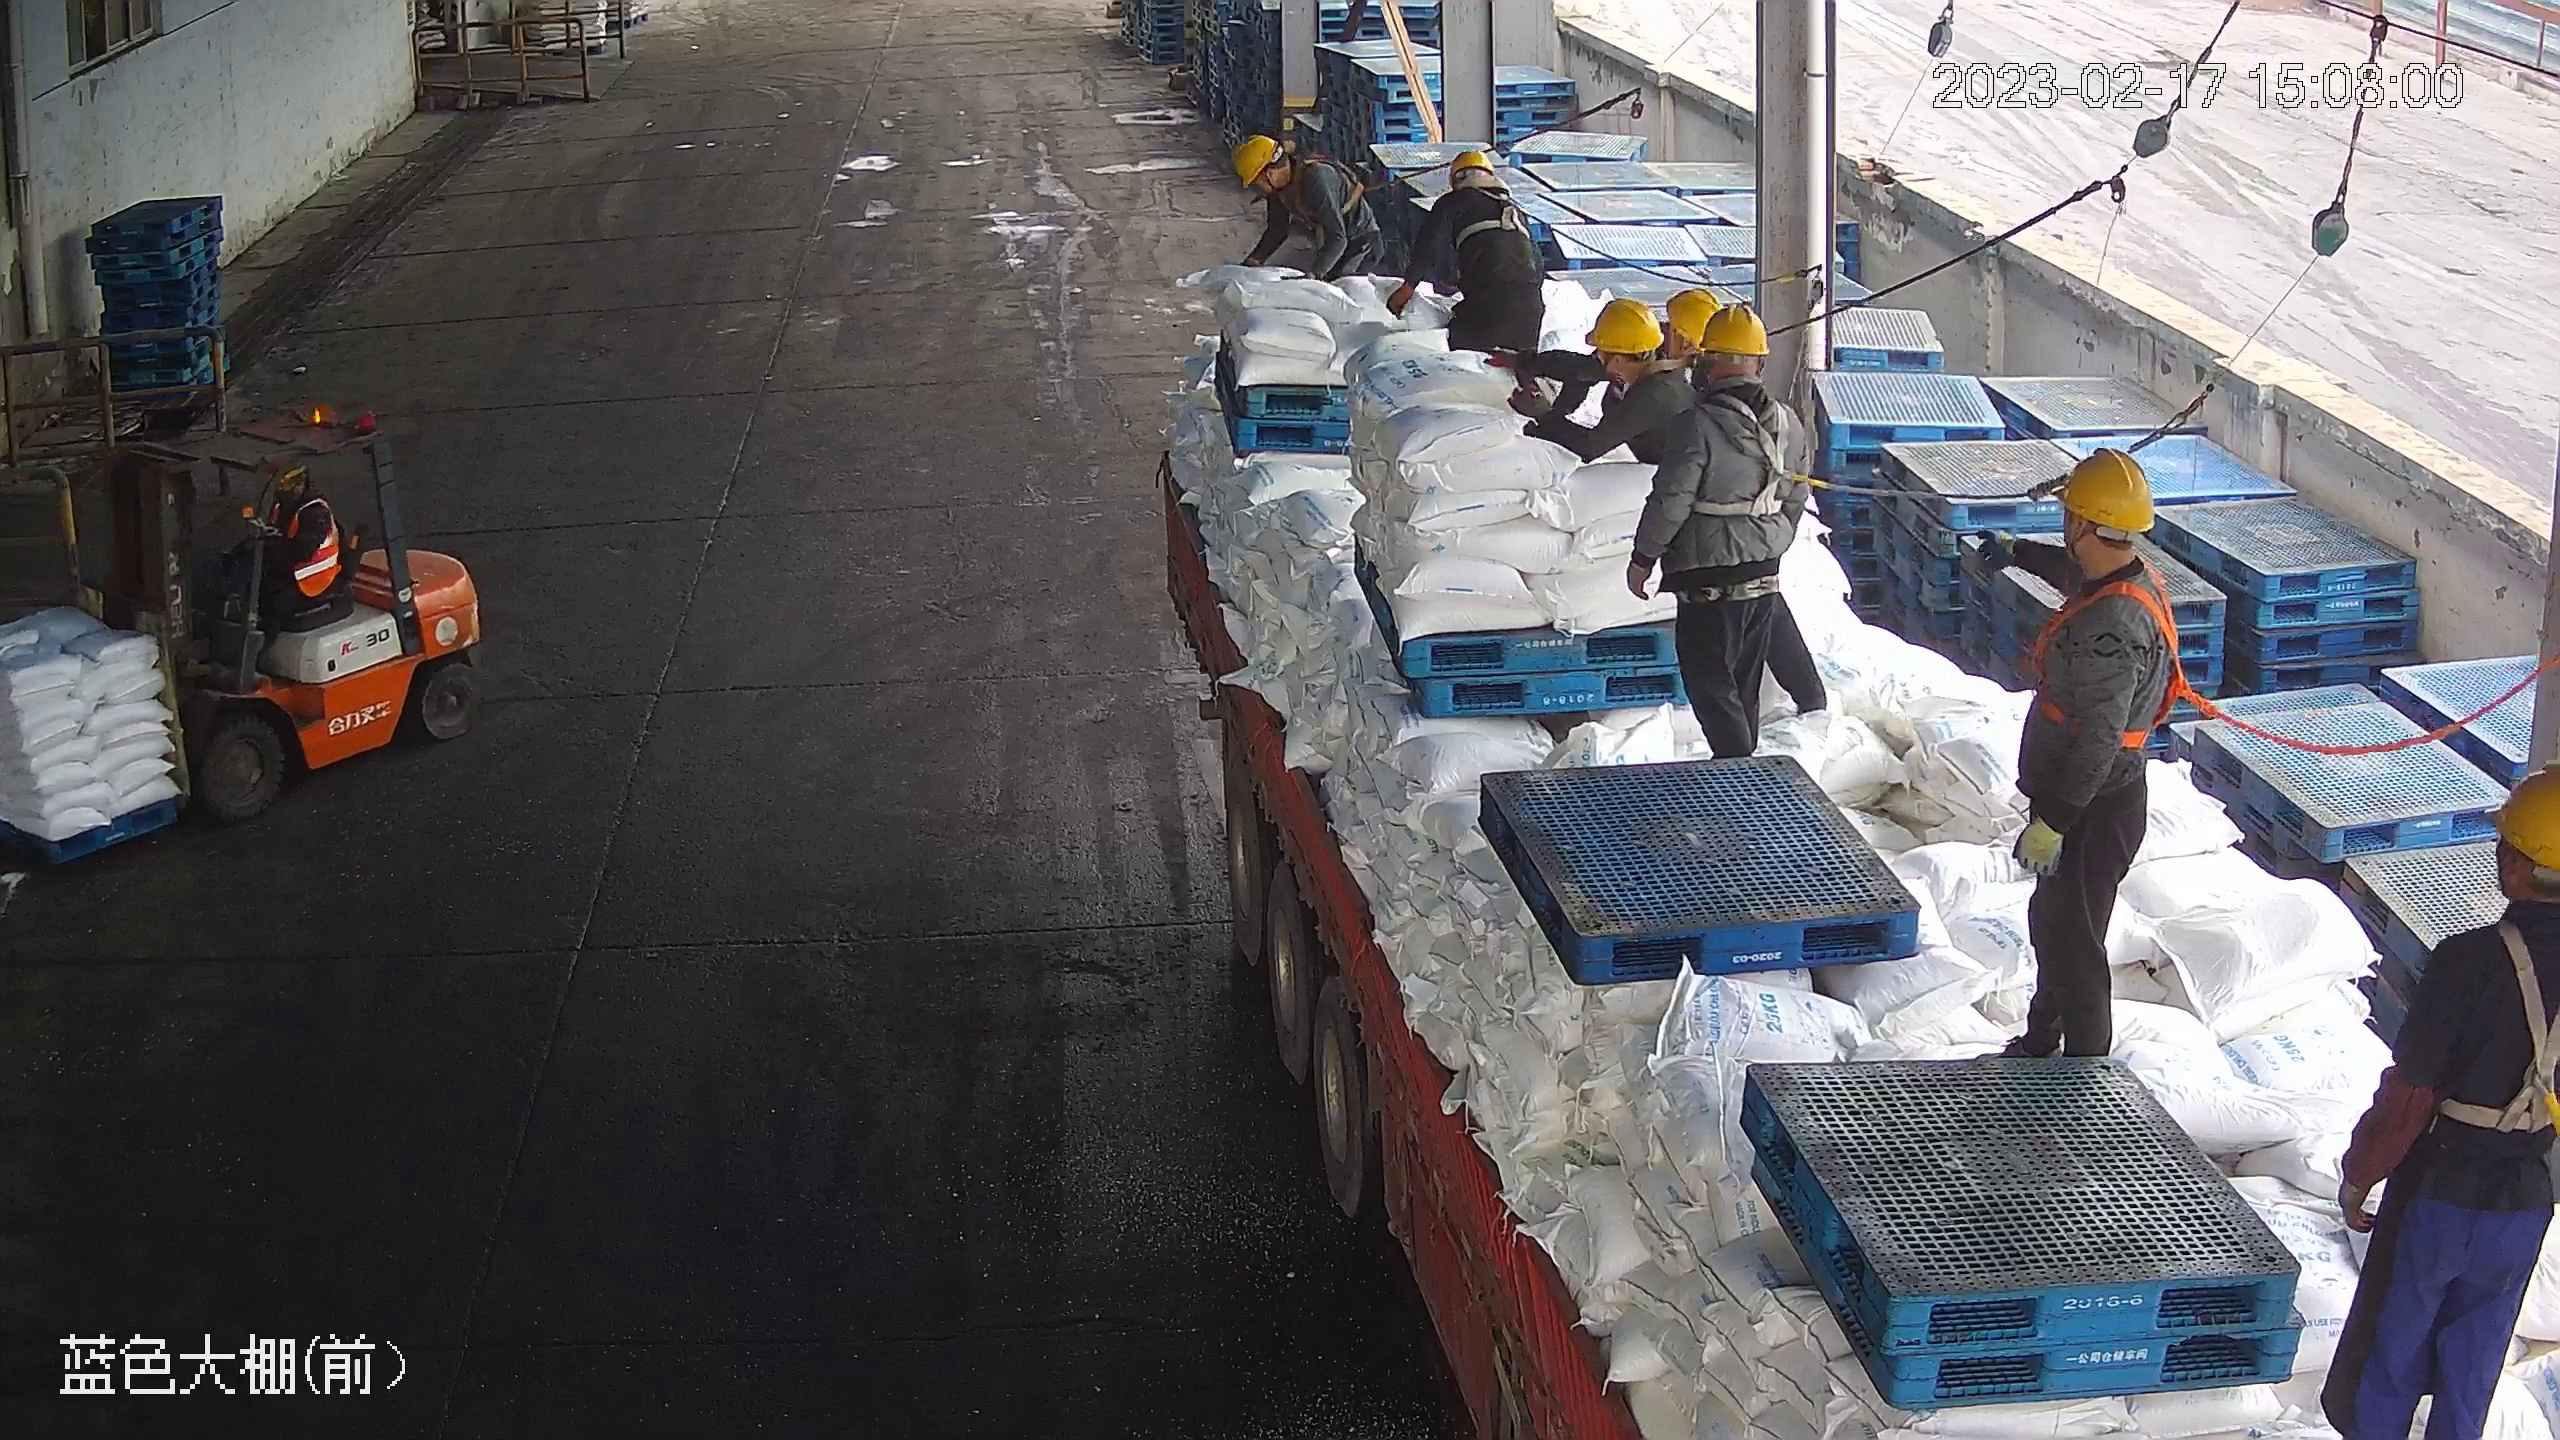belt: (2028, 561, 2215, 781), (2428, 922, 2560, 1150), (1703, 394, 1815, 538), (1298, 152, 1379, 228), (1455, 178, 1539, 247)
head: (2379, 763, 2560, 1061), (2000, 447, 2174, 665), (1669, 306, 1812, 469), (1546, 299, 1700, 437), (1417, 152, 1538, 254), (1239, 134, 1344, 230)
helmet: (2057, 445, 2154, 535), (2486, 764, 2560, 876), (1584, 301, 1666, 355), (1701, 306, 1769, 359), (1666, 290, 1722, 346), (1238, 135, 1278, 188), (1451, 152, 1496, 189)
people: (2317, 766, 2560, 1440), (1998, 448, 2176, 1056), (1627, 307, 1813, 768), (1384, 154, 1545, 352), (198, 467, 340, 656), (1239, 135, 1382, 278)
truck: (1152, 344, 2560, 1440)
